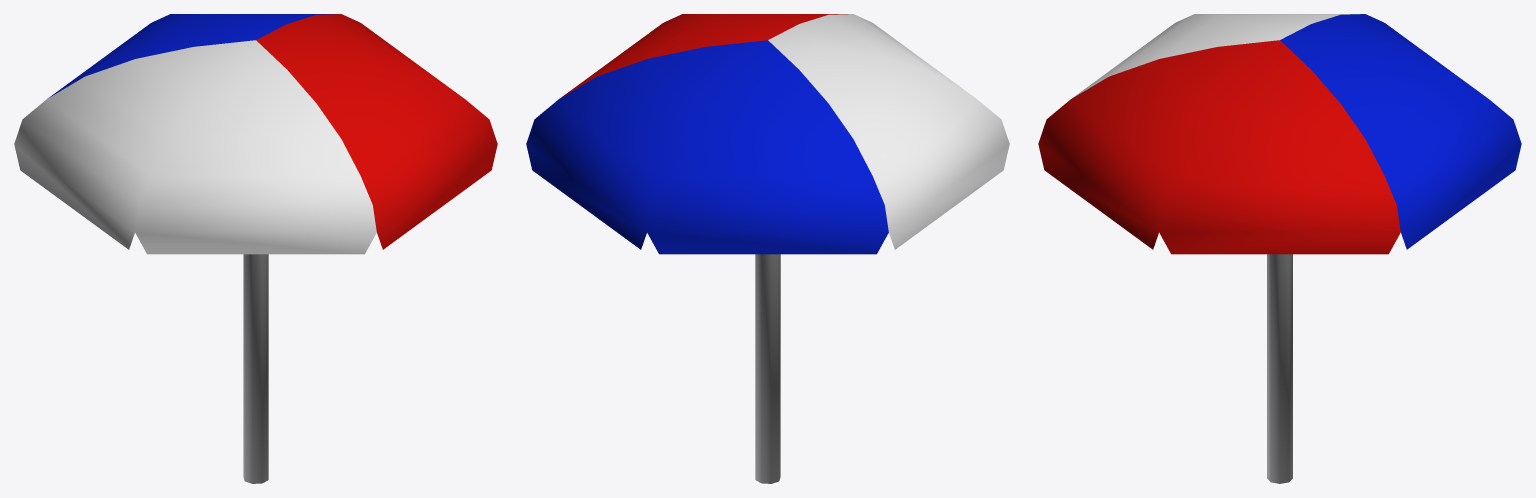
File: Umbrella_Smooth_3.fbx
3 renders of one model, left to right at view 1: azimuth 30°, elevation 25°; view 2: azimuth 150°, elevation 25°; view 3: azimuth 270°, elevation 25°, orthographic.
Visible parts, largest first — view 1: Top, Base; view 2: Top, Base; view 3: Top, Base.
Boxes of the visible parts, left/top/right/bottom form: Top: left=14, top=14, right=497, bottom=254; Base: left=243, top=254, right=268, bottom=483; Top: left=526, top=14, right=1009, bottom=254; Base: left=755, top=254, right=780, bottom=483; Top: left=1038, top=14, right=1521, bottom=254; Base: left=1267, top=254, right=1292, bottom=483.
Bounding box in the file's own units: 173 × 200 × 200.
